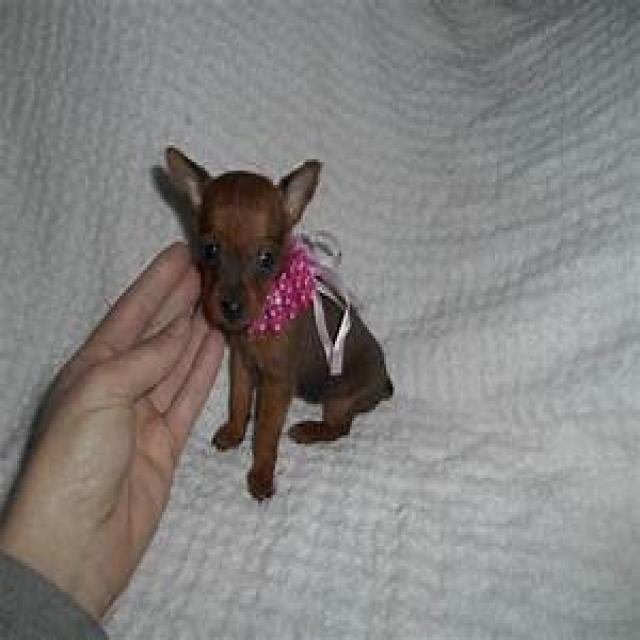KOPEK: (140, 130, 406, 505)
